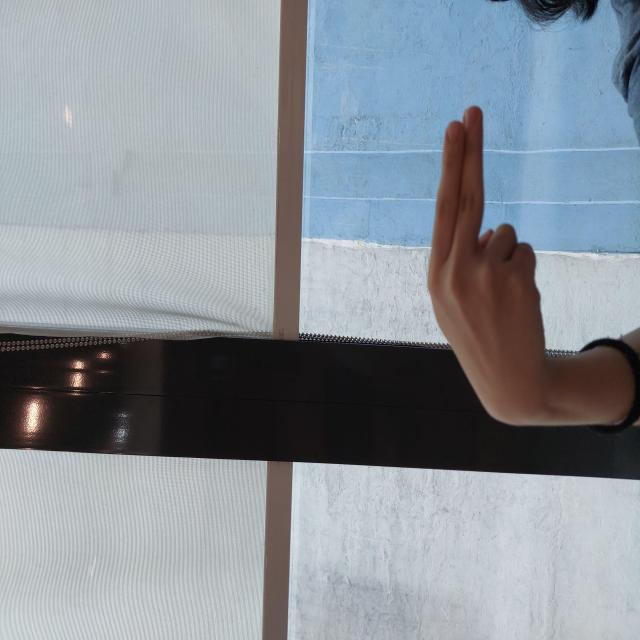H: (212, 428, 534, 544)
